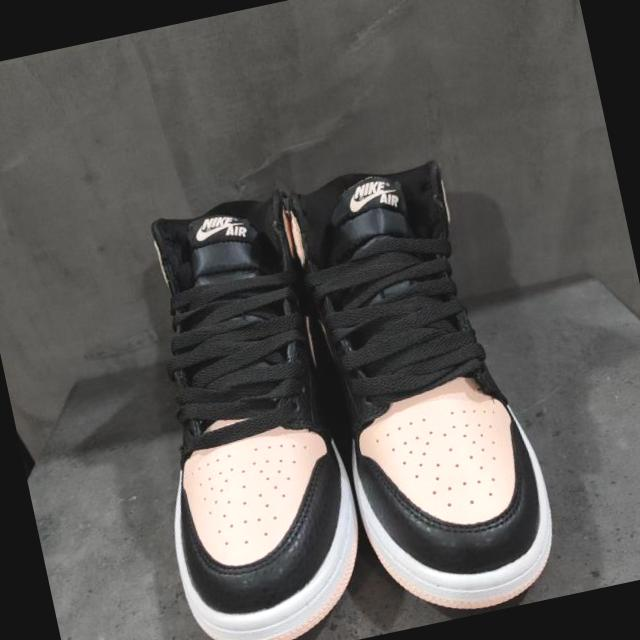nike_fake_jordan: (280, 144, 566, 635), (110, 181, 385, 640)
